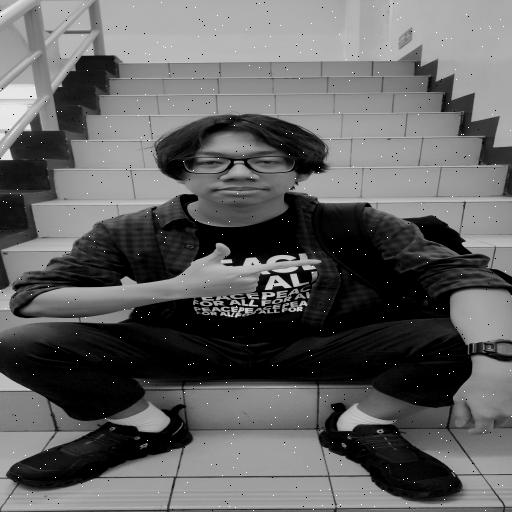next: (142, 232, 342, 311)
